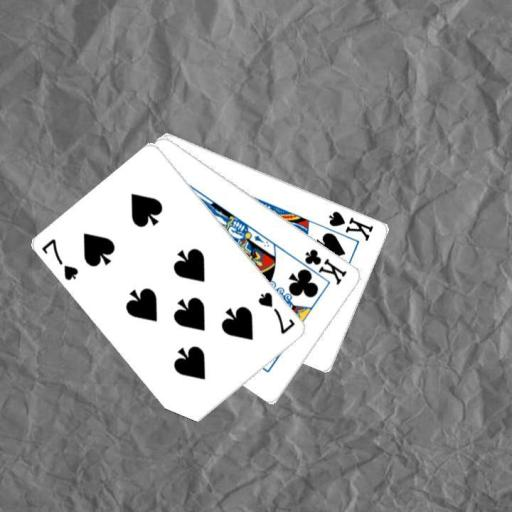7S: (255, 289, 297, 336), (39, 236, 81, 283)
KC: (292, 246, 349, 287)
KS: (326, 208, 376, 243)
